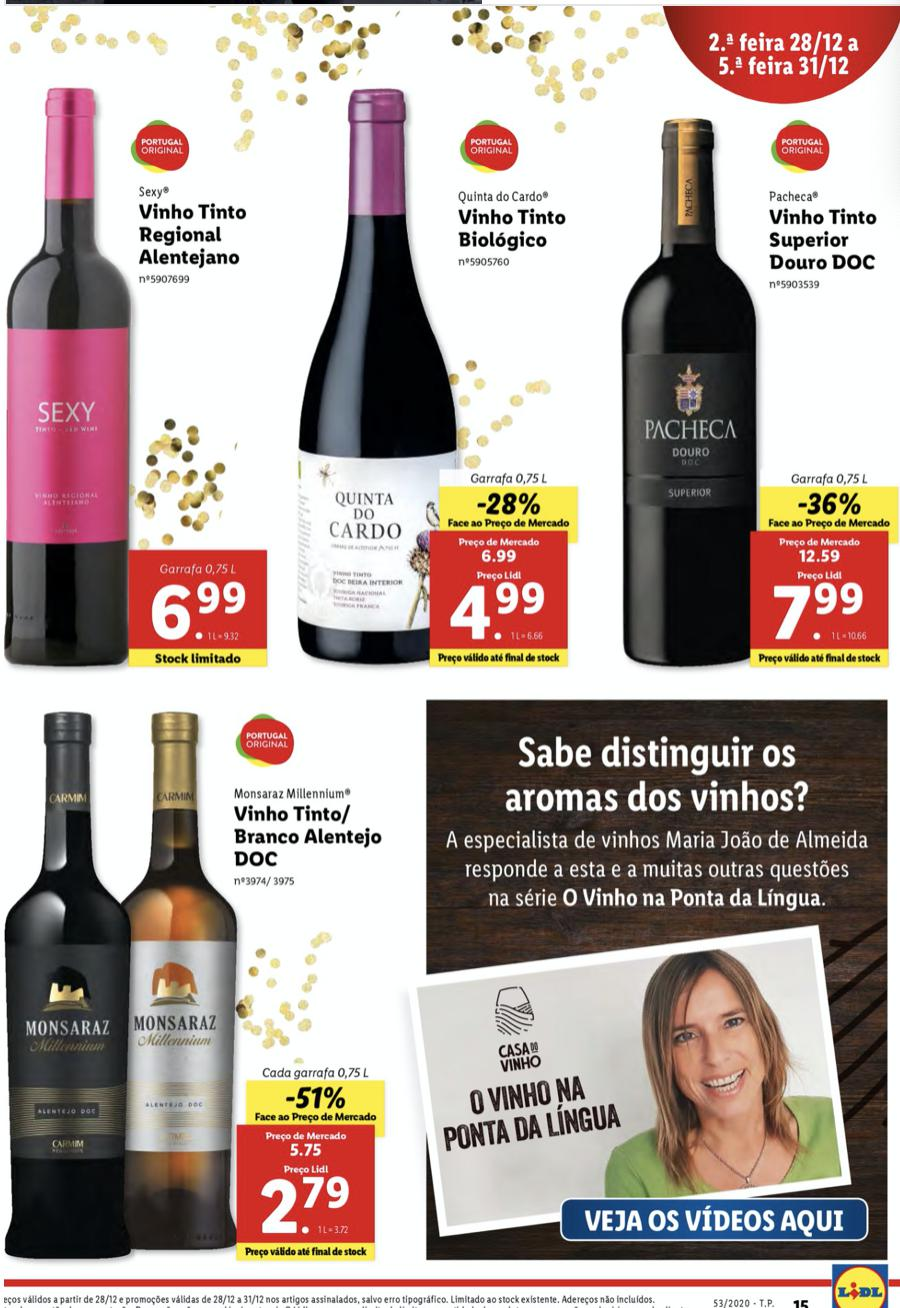name: (227, 802, 387, 869), (764, 204, 890, 275), (137, 199, 250, 272), (453, 204, 572, 251)
price: (440, 567, 554, 648), (251, 1161, 361, 1241), (766, 567, 872, 649), (153, 577, 259, 644)
product: (1, 694, 390, 1273), (587, 94, 900, 670), (280, 94, 587, 678), (1, 75, 280, 678)
promotion: (471, 486, 546, 522), (282, 1080, 350, 1114), (796, 490, 864, 519)
